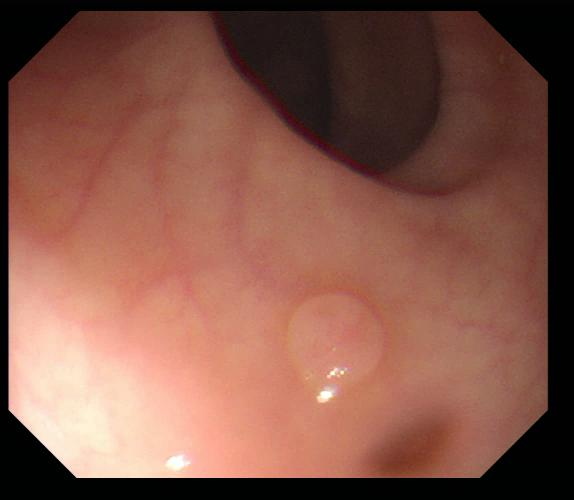polyp: (284, 291, 387, 397)
